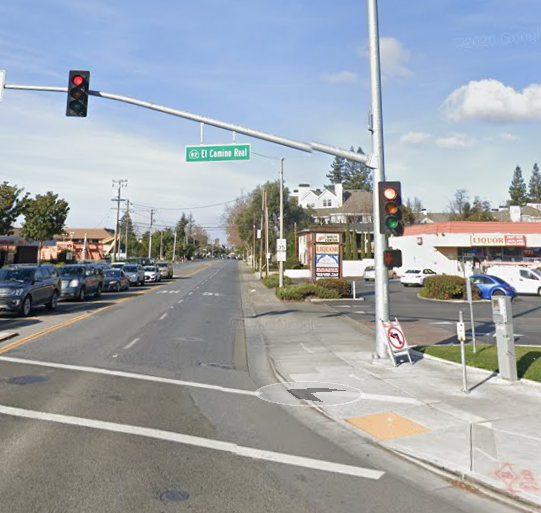red_light: (380, 183, 401, 236), (69, 69, 90, 115)
